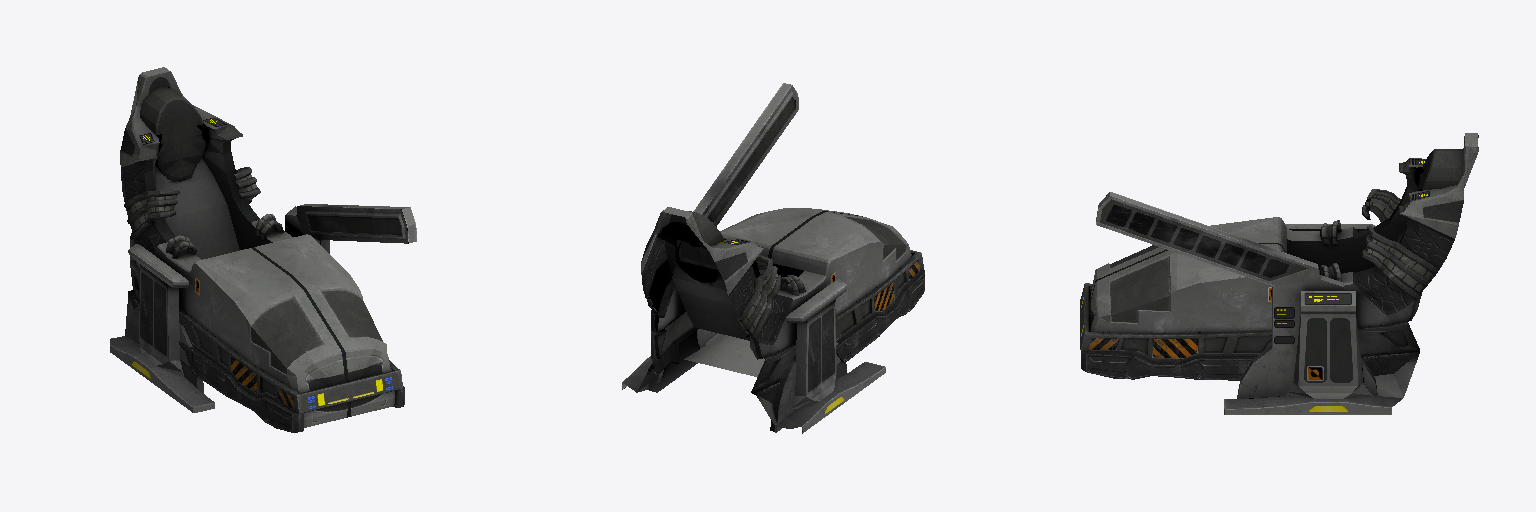
3 views of the same model, side by side, from view 1: azimuth 30°, elevation 25°; view 2: azimuth 150°, elevation 25°; view 3: azimuth 270°, elevation 25° (orthographic).
Parts seen in each view (by area): view 1: capsulechairmat1, capsulechairmat2; view 2: capsulechairmat1, capsulechairmat2; view 3: capsulechairmat1, capsulechairmat2.
Part boxes in pixels (bbox=[...]): capsulechairmat1: bbox=[110, 67, 404, 432]; capsulechairmat2: bbox=[110, 97, 416, 412]; capsulechairmat1: bbox=[622, 207, 924, 432]; capsulechairmat2: bbox=[622, 83, 884, 433]; capsulechairmat1: bbox=[1080, 133, 1478, 414]; capsulechairmat2: bbox=[1096, 149, 1438, 408].
Size of the model in its own units: 2.11 by 2.56 by 4.02.
Materials: 2 (2 with a texture image).